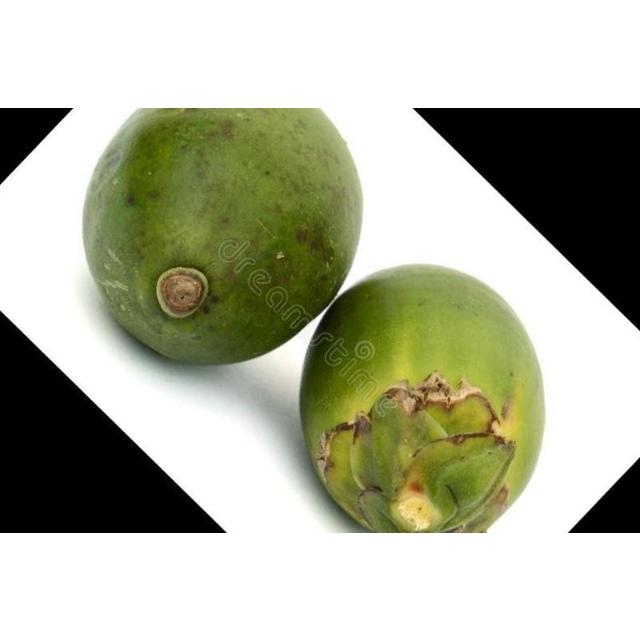good: (80, 107, 365, 367), (298, 264, 548, 532)
